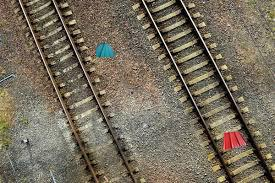Color_steel: (223, 129, 248, 157), (92, 40, 117, 62)
